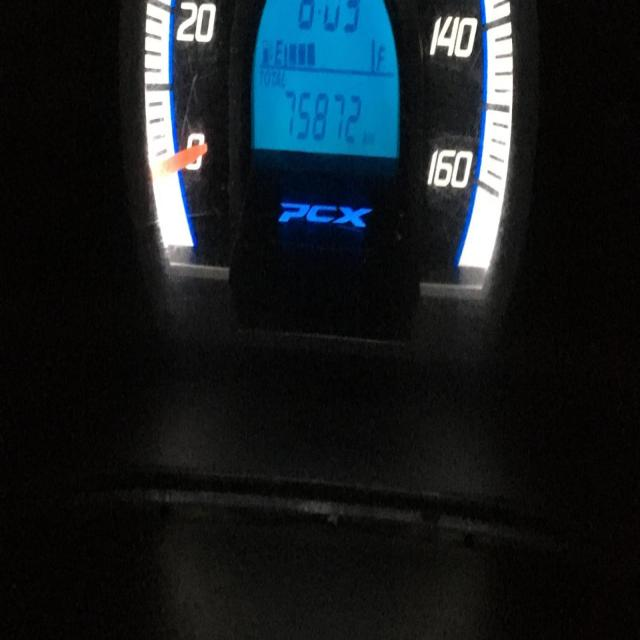odometer: (244, 2, 404, 164)
